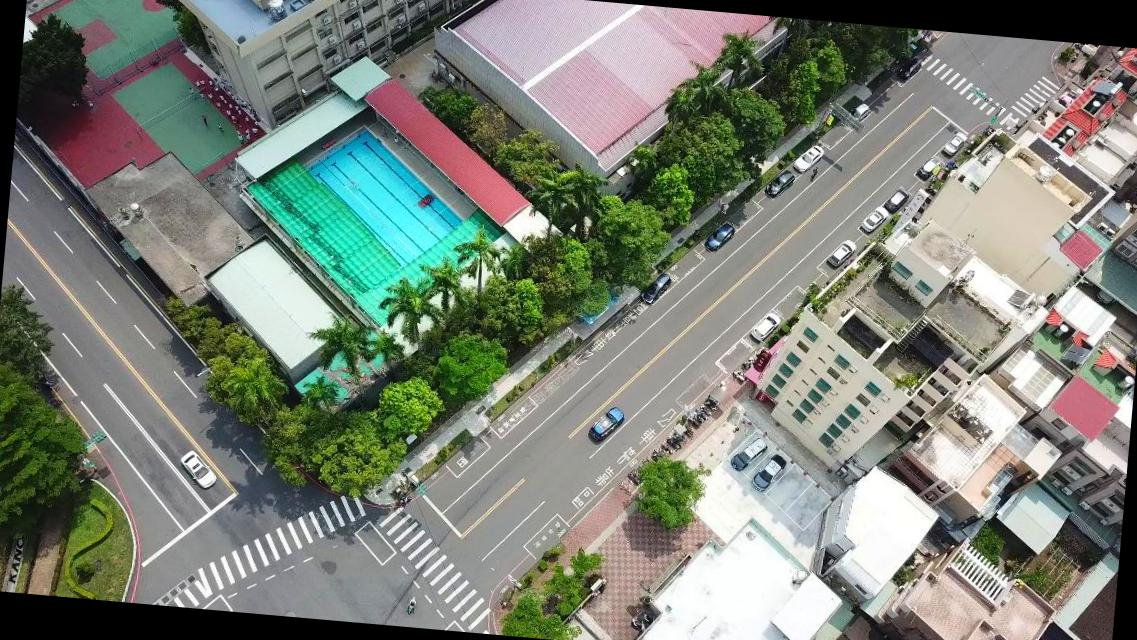vehicle: (177, 449, 219, 490), (748, 452, 786, 494), (728, 434, 766, 474), (588, 402, 624, 444), (702, 222, 735, 254), (638, 272, 670, 304), (762, 168, 794, 200), (750, 310, 781, 343), (792, 143, 823, 174), (826, 238, 856, 268), (859, 204, 887, 234), (896, 53, 924, 81), (882, 185, 909, 213), (916, 155, 942, 181), (942, 130, 967, 156), (845, 102, 868, 126)
